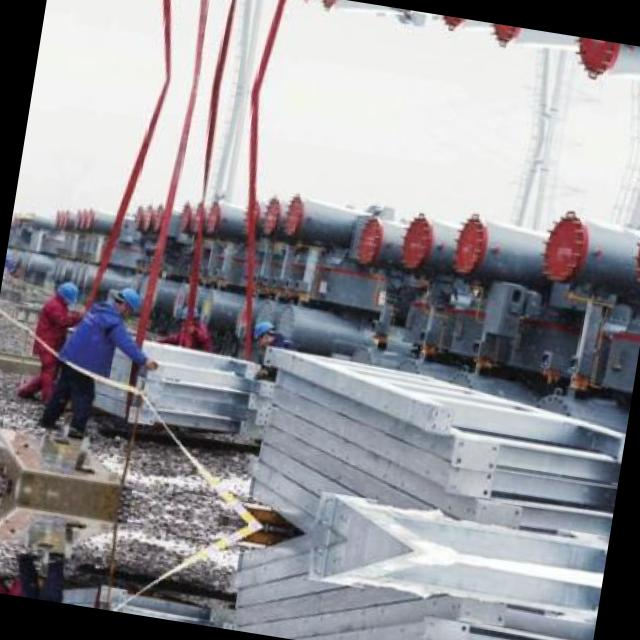helmet: (106, 284, 143, 322), (50, 278, 80, 310), (248, 316, 278, 344)
